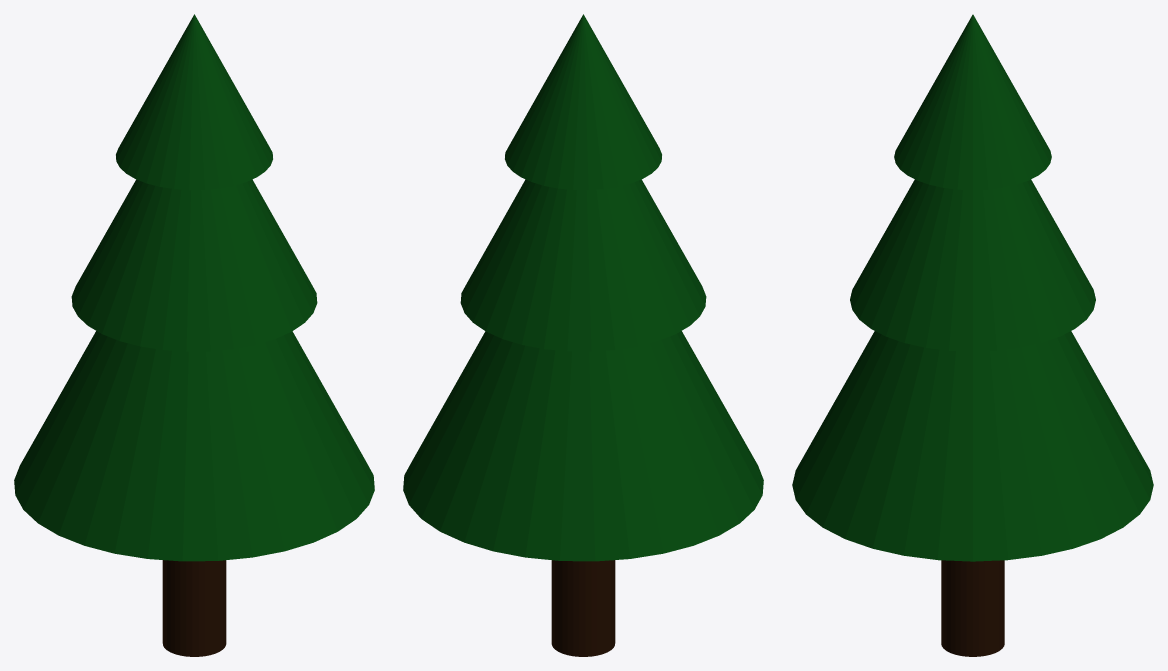
File: ChristmasTree.fbx
3 views of the same model, side by side, from view 1: azimuth 30°, elevation 25°; view 2: azimuth 150°, elevation 25°; view 3: azimuth 270°, elevation 25° (orthographic).
Parts seen in each view (by area): view 1: Cone; view 2: Cone; view 3: Cone.
Part boxes in pixels (x1,y1,x2,y2): Cone: (14,14,374,656); Cone: (403,14,763,656); Cone: (792,14,1153,656).
Bounding box in the file's own units: 341 × 655 × 341.
